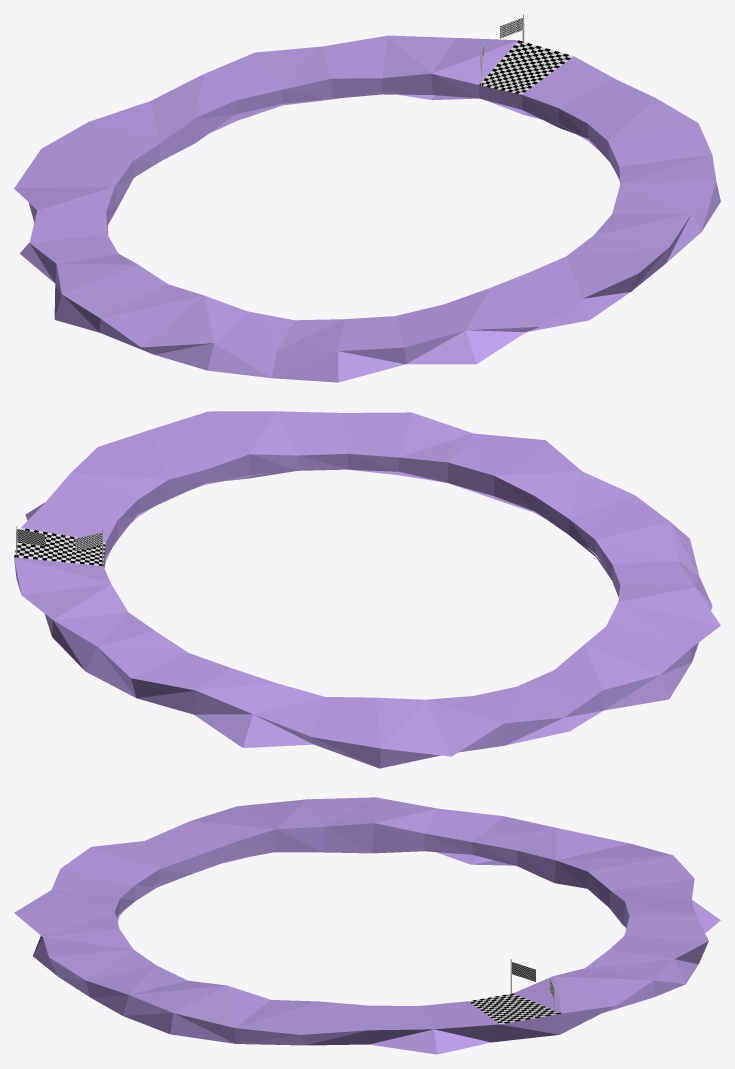
Rendered from newRingOne.fbx.
The picture shows the model from 3 angles, top to bottom: view 1: azimuth 30°, elevation 25°; view 2: azimuth 150°, elevation 25°; view 3: azimuth 270°, elevation 25°; orthographic projection.
Parts seen in each view (by area): view 1: Cube.003; view 2: Cube.003; view 3: Cube.003.
Part boxes in pixels (x1=…): Cube.003: x1=14, y1=14, x2=720, y2=382; Cube.003: x1=14, y1=411, x2=720, y2=768; Cube.003: x1=14, y1=797, x2=720, y2=1054.
Bounding box in the file's own units: 2719 × 437 × 2743.
